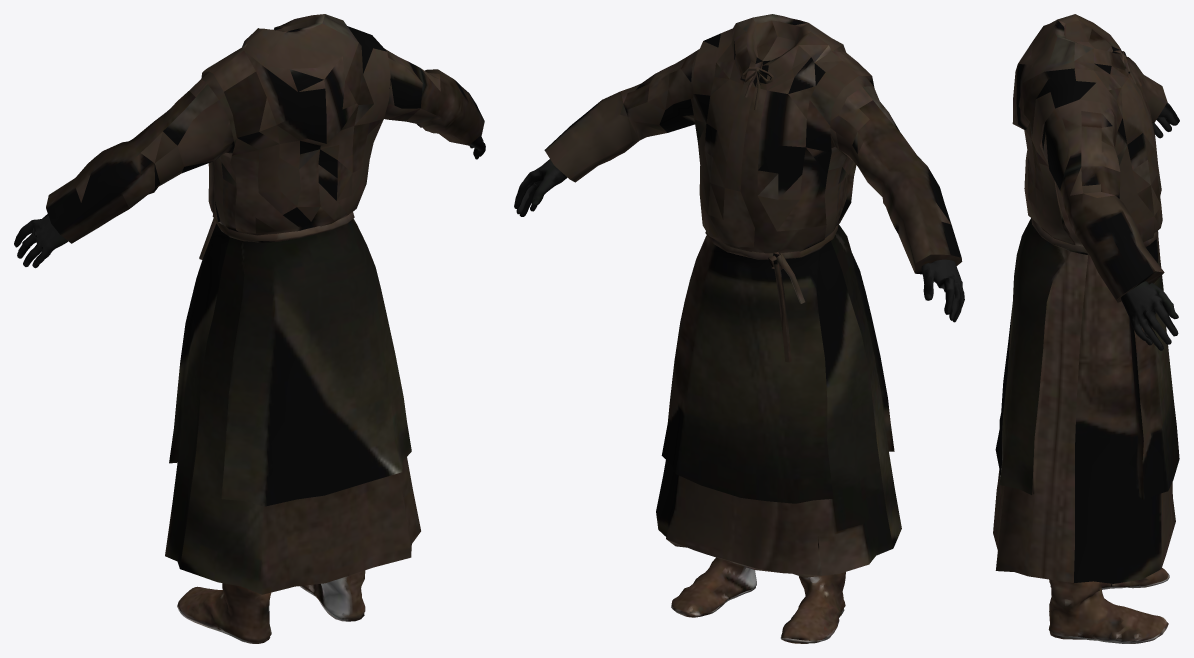
3 renders of one model, left to right at view 1: azimuth 30°, elevation 25°; view 2: azimuth 150°, elevation 25°; view 3: azimuth 270°, elevation 25°, orthographic. The views are drawn at different scales.
Parts seen in each view (by area): view 1: mesh_0; view 2: mesh_0; view 3: mesh_0.
Boxes of the visible parts, left/top/right/bottom form: mesh_0: left=14, top=14, right=485, bottom=643; mesh_0: left=514, top=14, right=964, bottom=643; mesh_0: left=993, top=14, right=1179, bottom=643.
Size of the model in its own units: 50.46 by 63.72 by 18.48.
1 material, 1 textured.
